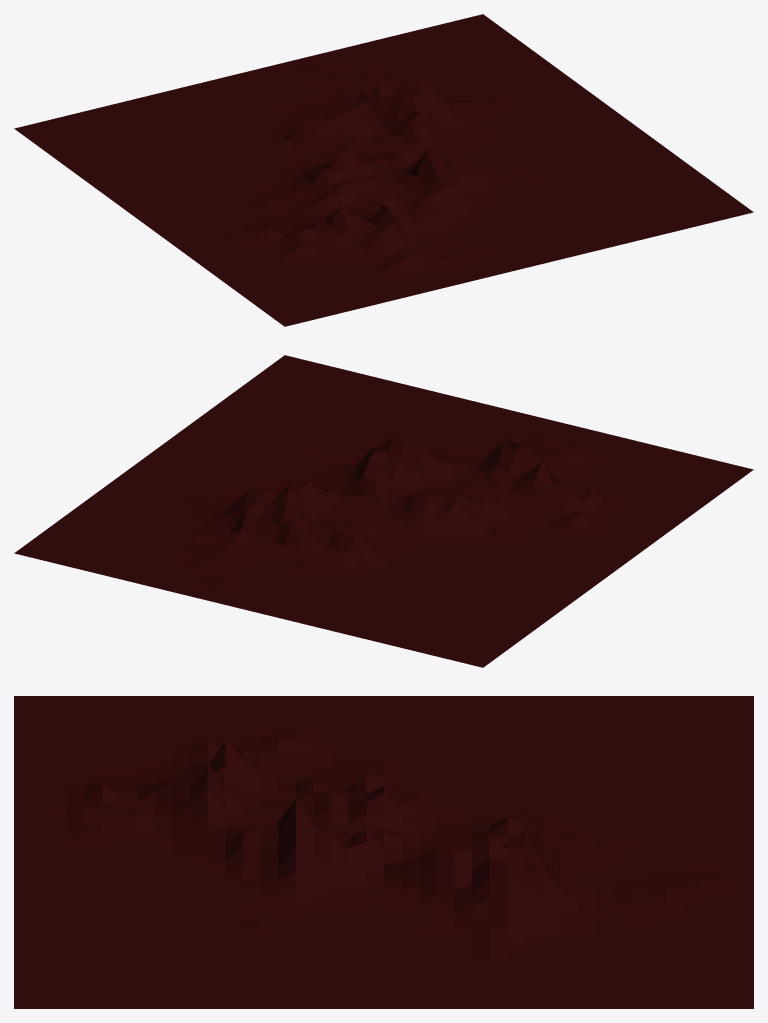
File: space_mountain_2.fbx
3 views of the same model, one above another, from view 1: azimuth 30°, elevation 25°; view 2: azimuth 150°, elevation 25°; view 3: azimuth 270°, elevation 25° (orthographic). The views are drawn at different scales.
Visible parts, largest first — view 1: Plane.001; view 2: Plane.001; view 3: Plane.001.
Part boxes in pixels (box(x1,y1,x2,y2)): Plane.001: box(14, 14, 753, 326); Plane.001: box(14, 355, 753, 667); Plane.001: box(14, 696, 753, 1008).
Size of the model in its own units: 925 by 90.71 by 925.
